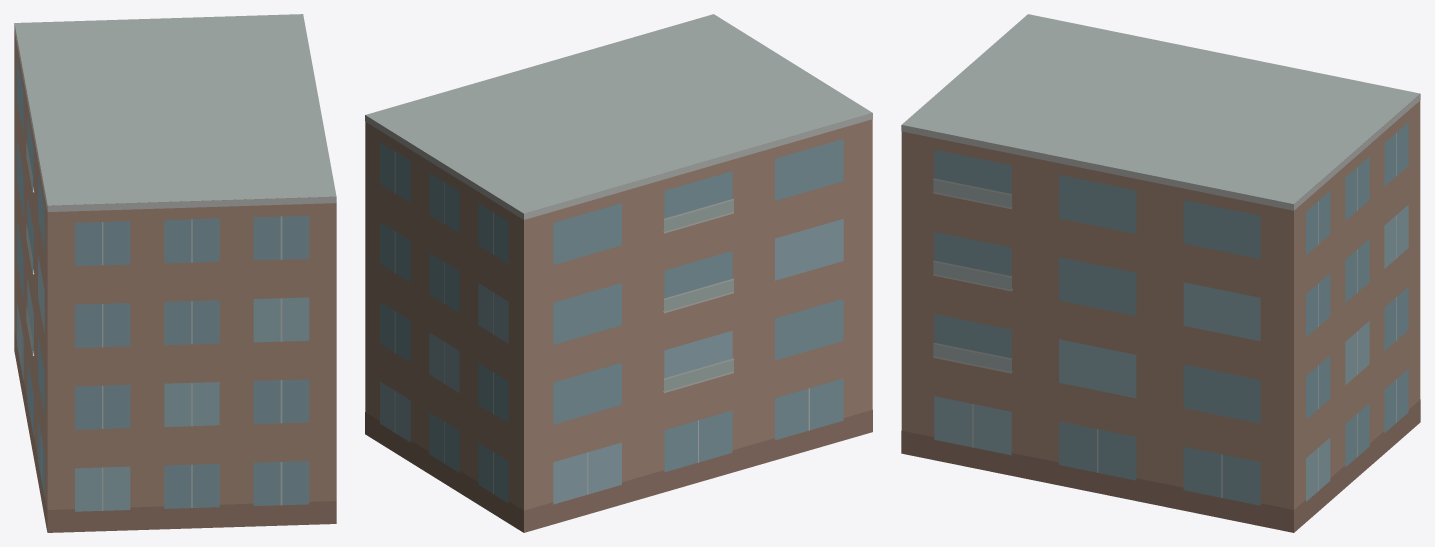
The model's file is survey-upis-32697213.glb.
The picture shows the model from 3 angles, left to right: view 1: azimuth 30°, elevation 25°; view 2: azimuth 150°, elevation 25°; view 3: azimuth 270°, elevation 25°; orthographic projection. The views are drawn at different scales.
Parts seen in each view (by area): view 1: survey-upis-32697213.tmp; view 2: survey-upis-32697213.tmp; view 3: survey-upis-32697213.tmp.
Part boxes in pixels (<box>): survey-upis-32697213.tmp: <box>14,14,336,532</box>; survey-upis-32697213.tmp: <box>365,14,872,532</box>; survey-upis-32697213.tmp: <box>901,14,1420,532</box>.
Bounding box in the file's own units: 15.15 × 12.2 × 17.47.
